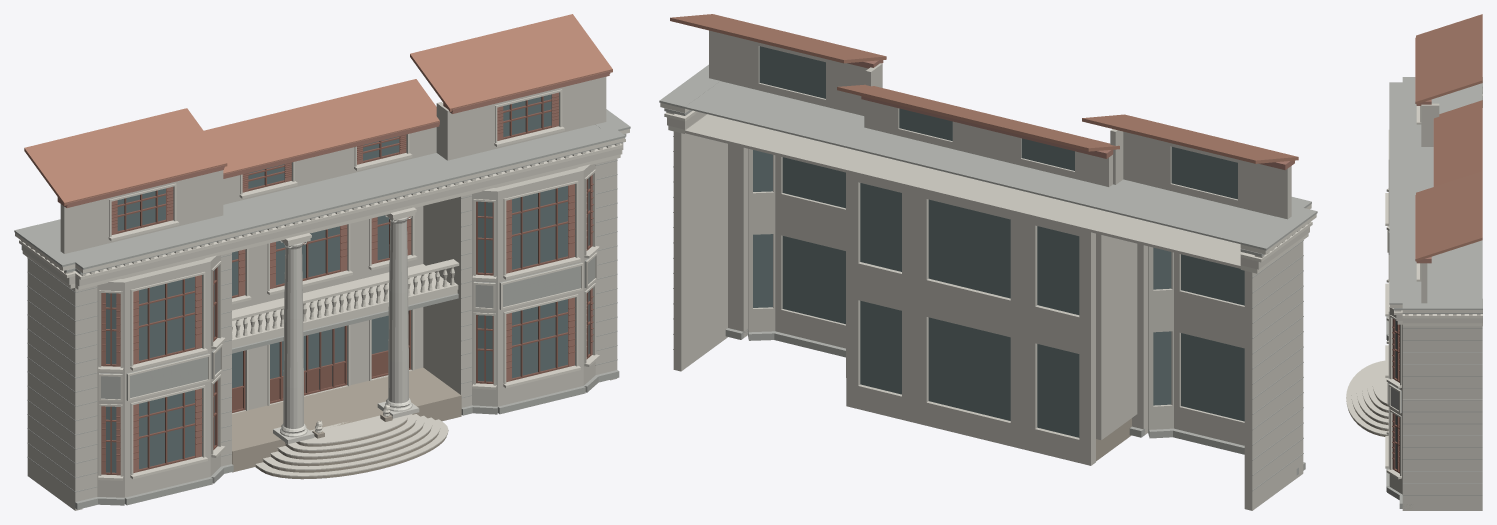
The model's file is pan-garden-portico-far.glb.
3 views of the same model, side by side, from view 1: azimuth 30°, elevation 25°; view 2: azimuth 150°, elevation 25°; view 3: azimuth 270°, elevation 25° (orthographic). The views are drawn at different scales.
Parts seen in each view (by area): view 1: 潘氏花园住宅南楼柱廊立面; view 2: 潘氏花园住宅南楼柱廊立面; view 3: 潘氏花园住宅南楼柱廊立面.
Boxes of the visible parts, x1,y1,x2,y2 form: 潘氏花园住宅南楼柱廊立面: (14,14,630,510); 潘氏花园住宅南楼柱廊立面: (659,14,1317,510); 潘氏花园住宅南楼柱廊立面: (1346,14,1482,510).
Bounding box in the file's own units: 22.96 × 12.7 × 5.72.
